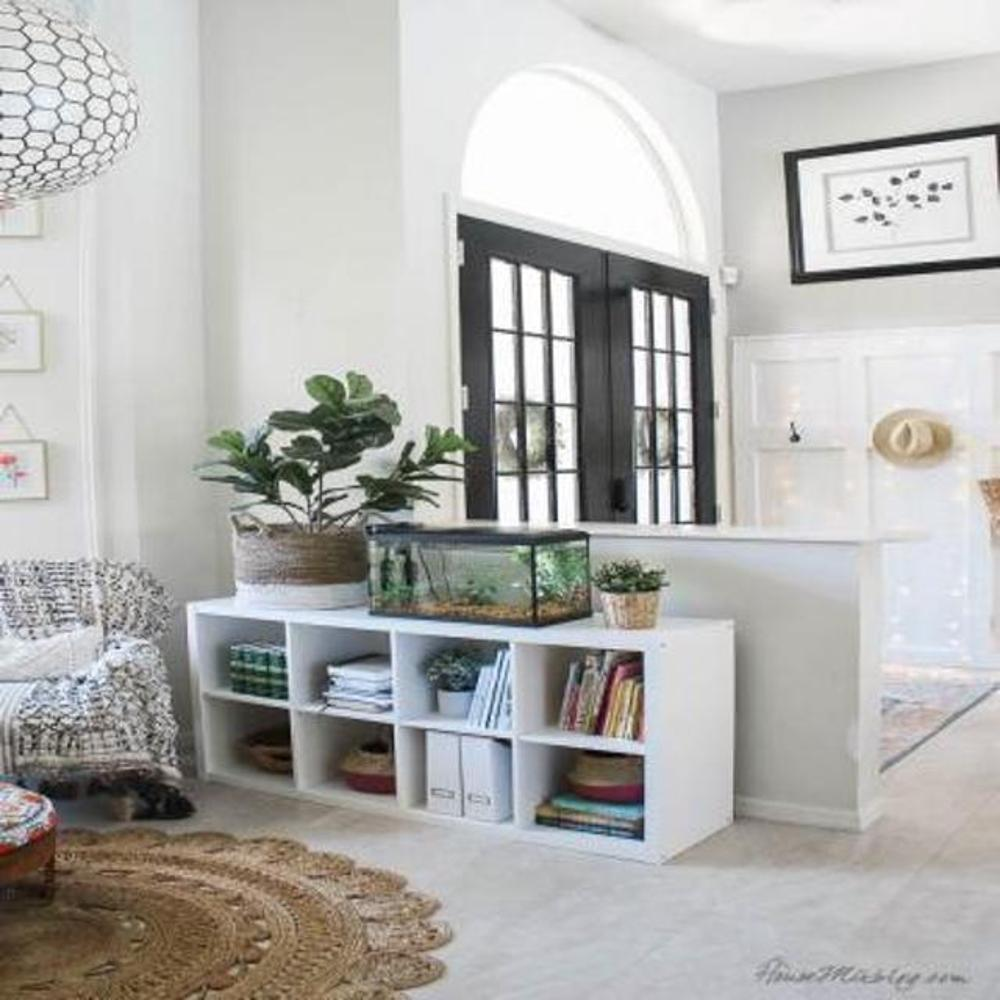lamp: (181, 586, 742, 871)
